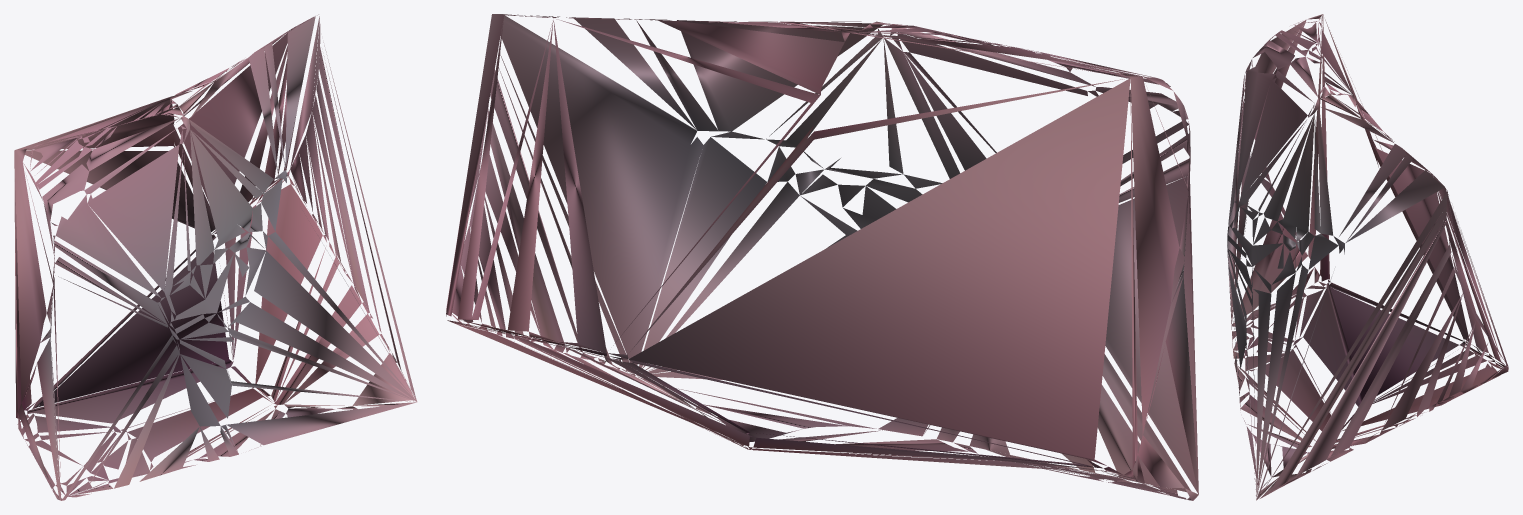
File: alpha1.gltf
3 renders of one model, left to right at view 1: azimuth 30°, elevation 25°; view 2: azimuth 150°, elevation 25°; view 3: azimuth 270°, elevation 25°, orthographic. The views are drawn at different scales.
Size of the model in its own units: 0.6776 by 0.5568 by 0.455.
